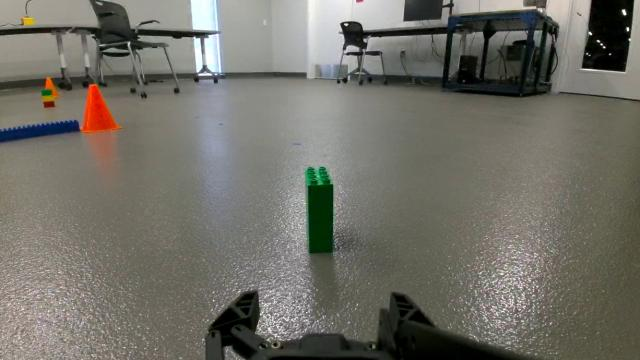lego: (294, 154, 344, 265)
